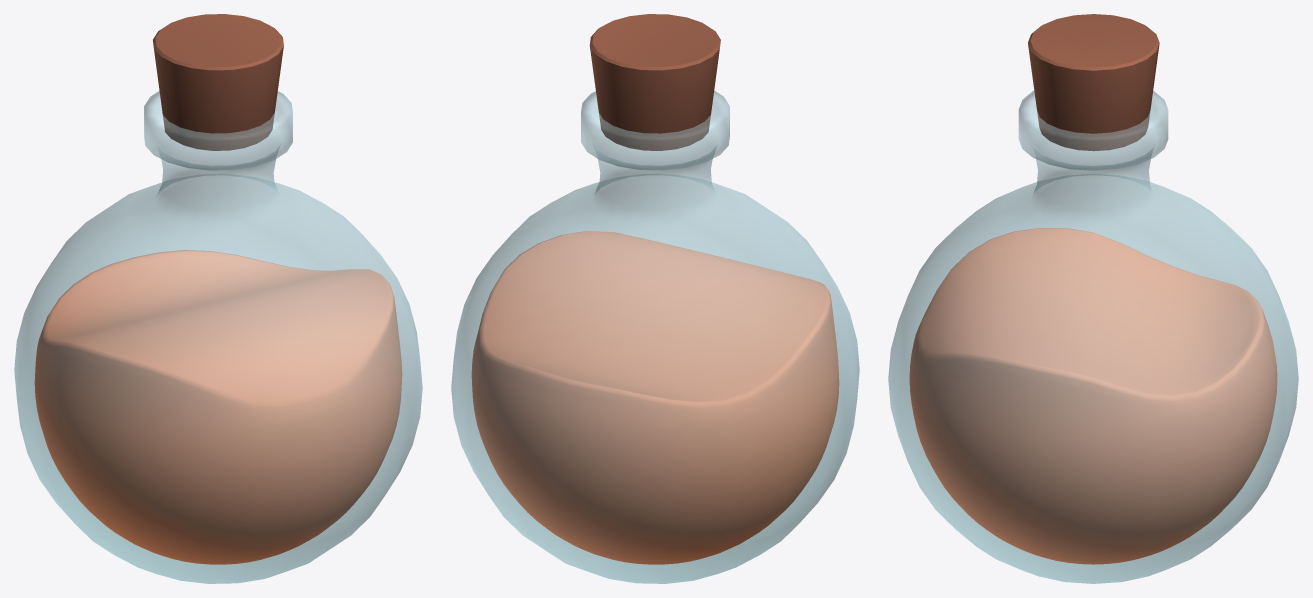
File: PocionCangrejo.fbx
3 renders of one model, left to right at view 1: azimuth 30°, elevation 25°; view 2: azimuth 150°, elevation 25°; view 3: azimuth 270°, elevation 25°, orthographic.
Parts seen in each view (by area): view 1: Botella, Liquido, Corcho; view 2: Botella, Liquido, Corcho; view 3: Botella, Liquido, Corcho.
Boxes of the visible parts, x1,y1,x2,y2 form: Botella: (14, 91, 422, 583); Liquido: (34, 250, 402, 564); Corcho: (153, 14, 283, 150); Botella: (451, 91, 859, 583); Liquido: (471, 231, 839, 564); Corcho: (589, 14, 720, 150); Botella: (888, 91, 1298, 583); Liquido: (909, 228, 1277, 564); Corcho: (1028, 14, 1159, 151).
Bounding box in the file's own units: 0.803 × 1.13 × 0.803.
